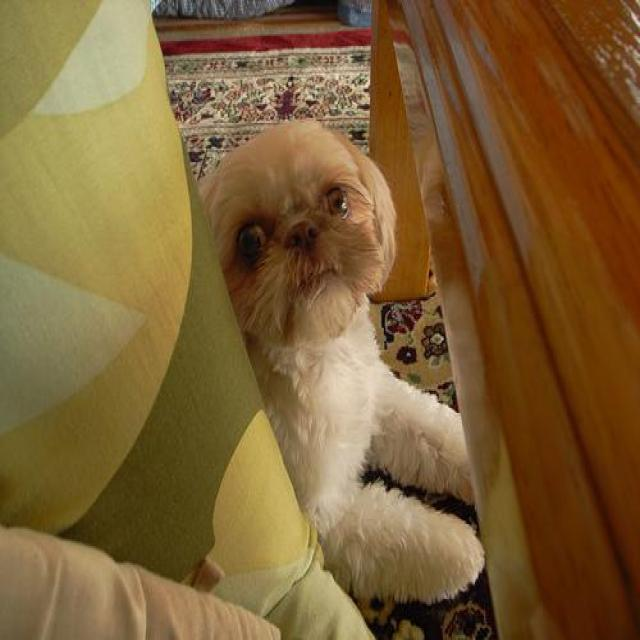shih_tzu: (198, 121, 492, 606)
